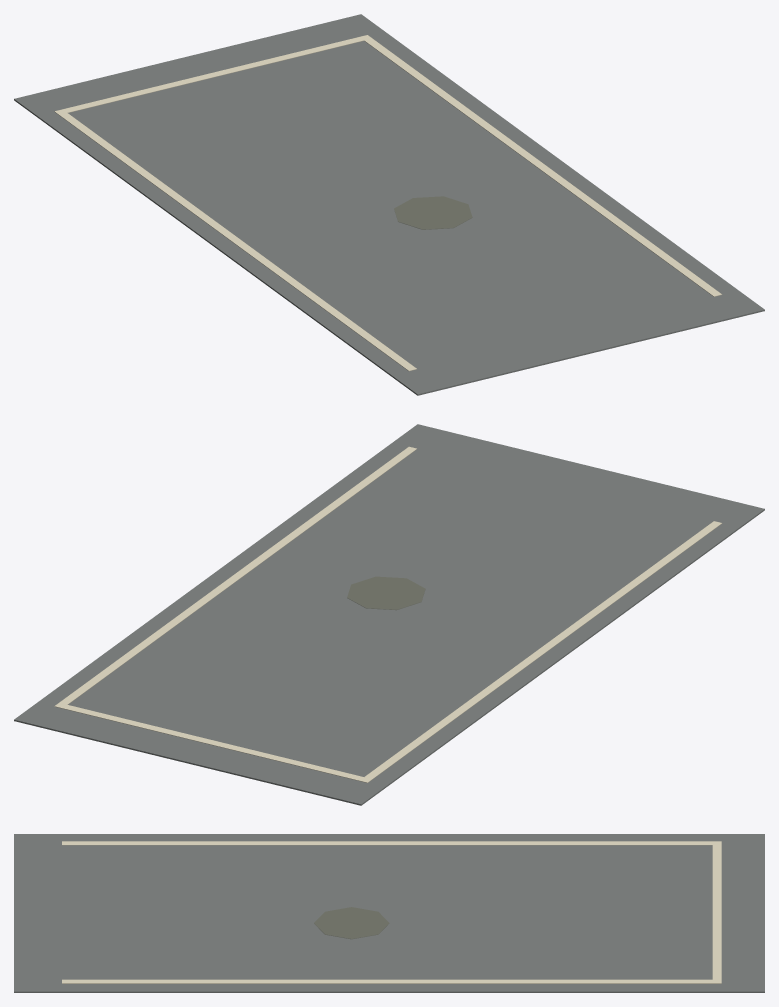
Rendered from pad_garage.glb.
3 renders of one model, top to bottom at view 1: azimuth 30°, elevation 25°; view 2: azimuth 150°, elevation 25°; view 3: azimuth 270°, elevation 25°, orthographic. The views are drawn at different scales.
Visible parts, largest first — view 1: pad_garage; view 2: pad_garage; view 3: pad_garage.
Part boxes in pixels (left/top/right/bottom): pad_garage: left=14, top=14, right=764, bottom=395; pad_garage: left=14, top=424, right=764, bottom=805; pad_garage: left=14, top=834, right=764, bottom=992.
Size of the model in its own units: 2.96 by 0.016 by 5.96.
